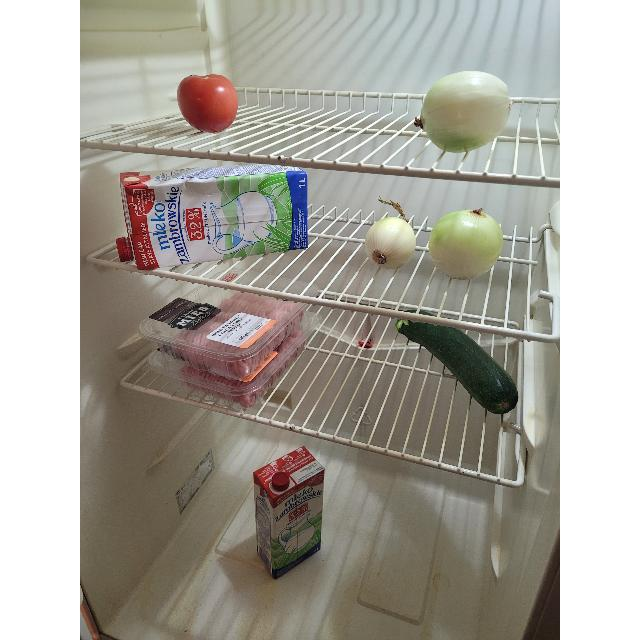meat: (184, 296, 302, 368), (182, 365, 292, 399)
milk: (115, 171, 311, 267), (255, 450, 328, 570)
onion: (418, 69, 512, 149), (431, 208, 499, 276), (366, 204, 414, 270)
tomato: (175, 76, 243, 130)
zucchini: (402, 316, 516, 414)
